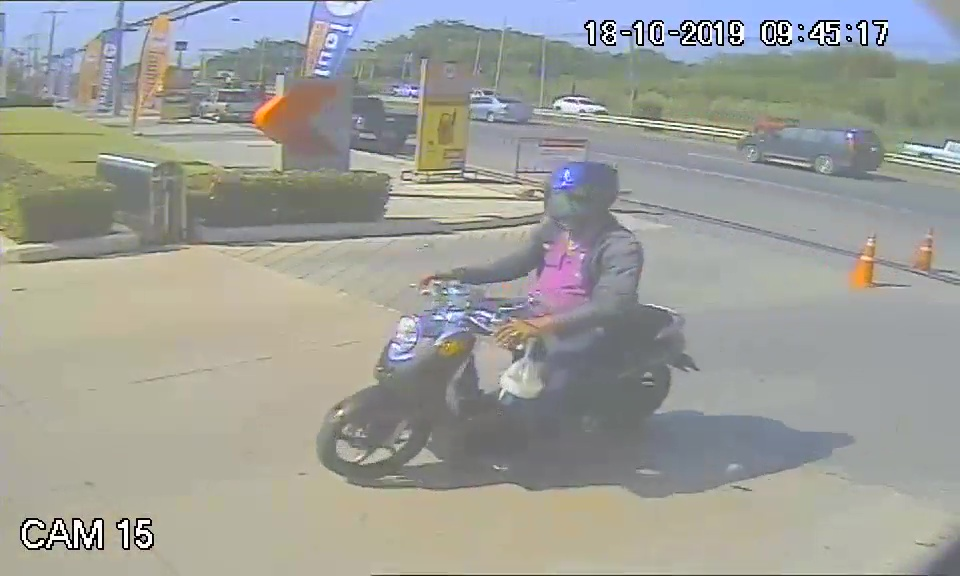motorcycle: (314, 270, 706, 483)
